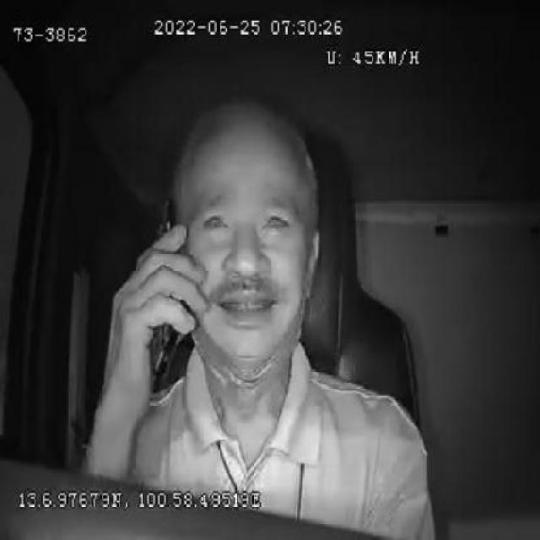phone: (146, 199, 184, 403)
